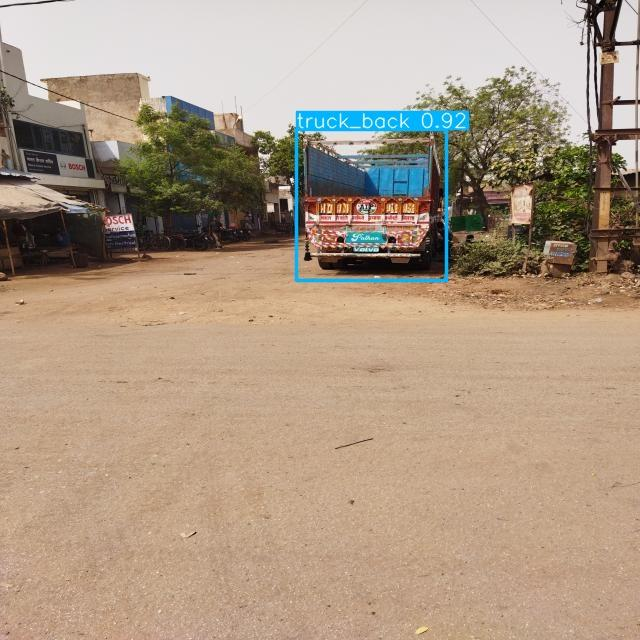truck_back: (296, 126, 444, 274)
